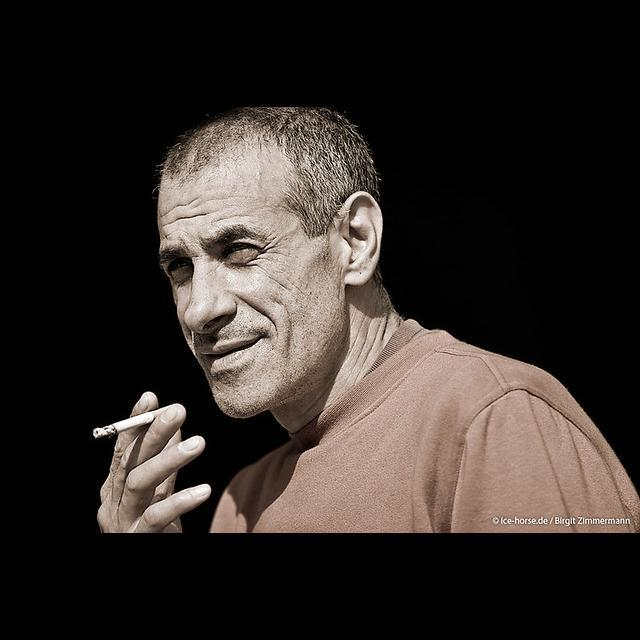rokok: (88, 402, 180, 442)
